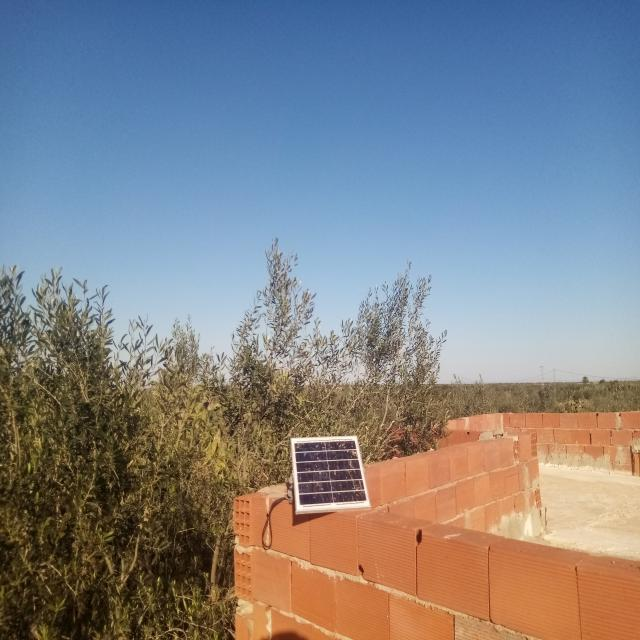faulty: (290, 435, 371, 512)
